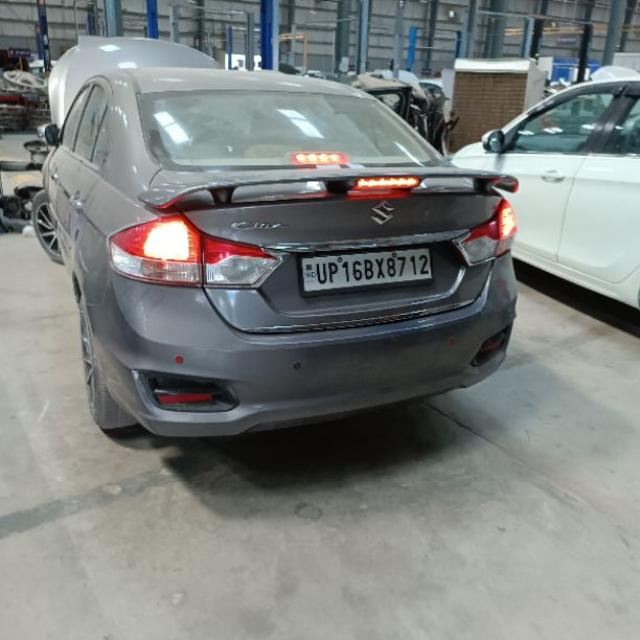license_plate: (296, 245, 434, 296)
